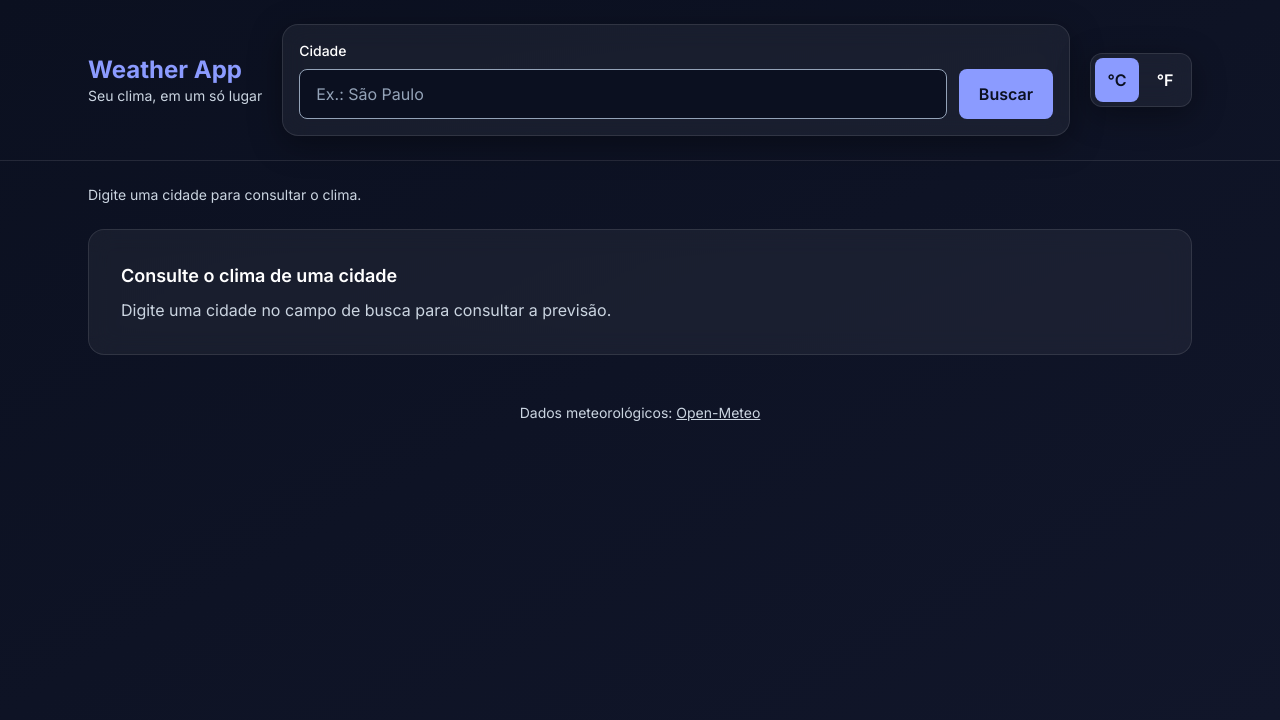
it: App integrado › mostra empty sem forecast e permite nova busca
The width and height of the screenshot is (1280, 720).
Type "Inexistente" into the search field at (623, 94), box [299,69,947,119]
Then press Enter
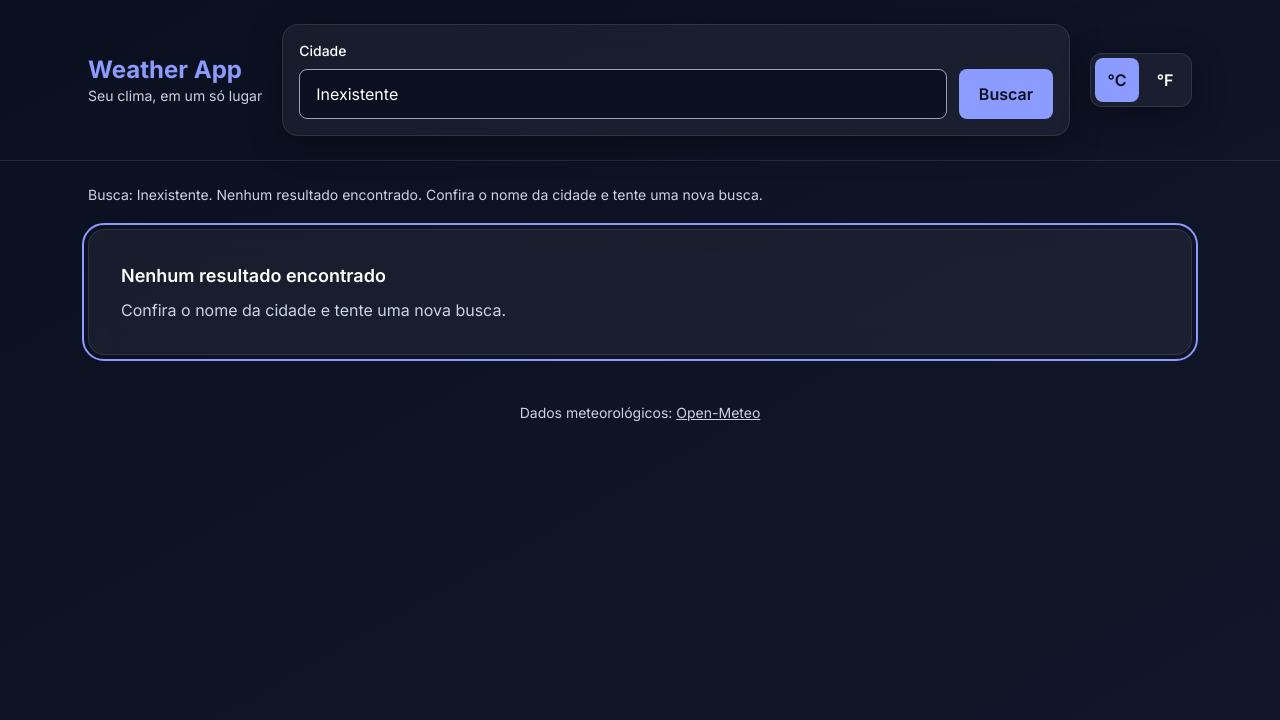
expect the heading "Nenhum resultado encontrado" is shown: met, box [121,265,386,286]
Replace the text in the search field with "São Paulo" at (623, 94), box [299,69,947,119]
Then press Enter
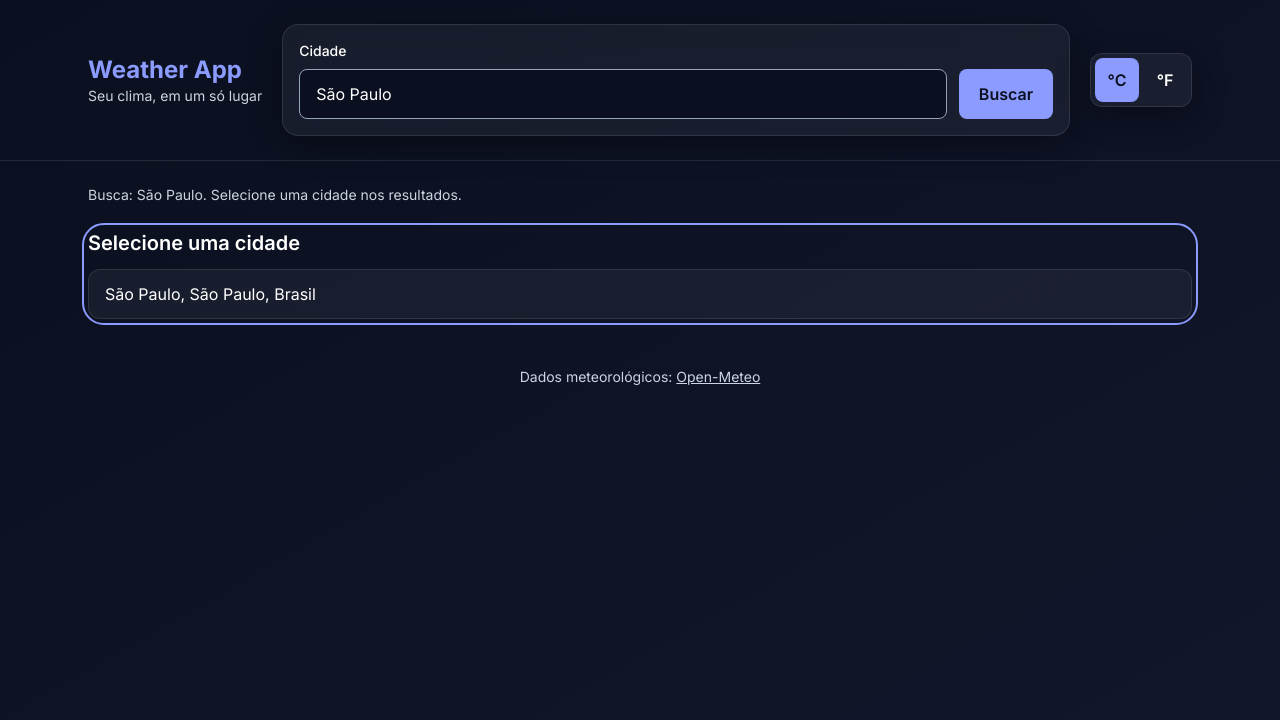
Click the button "São Paulo, São Paulo, Brasil" at (210, 294), box [88,269,1192,319]
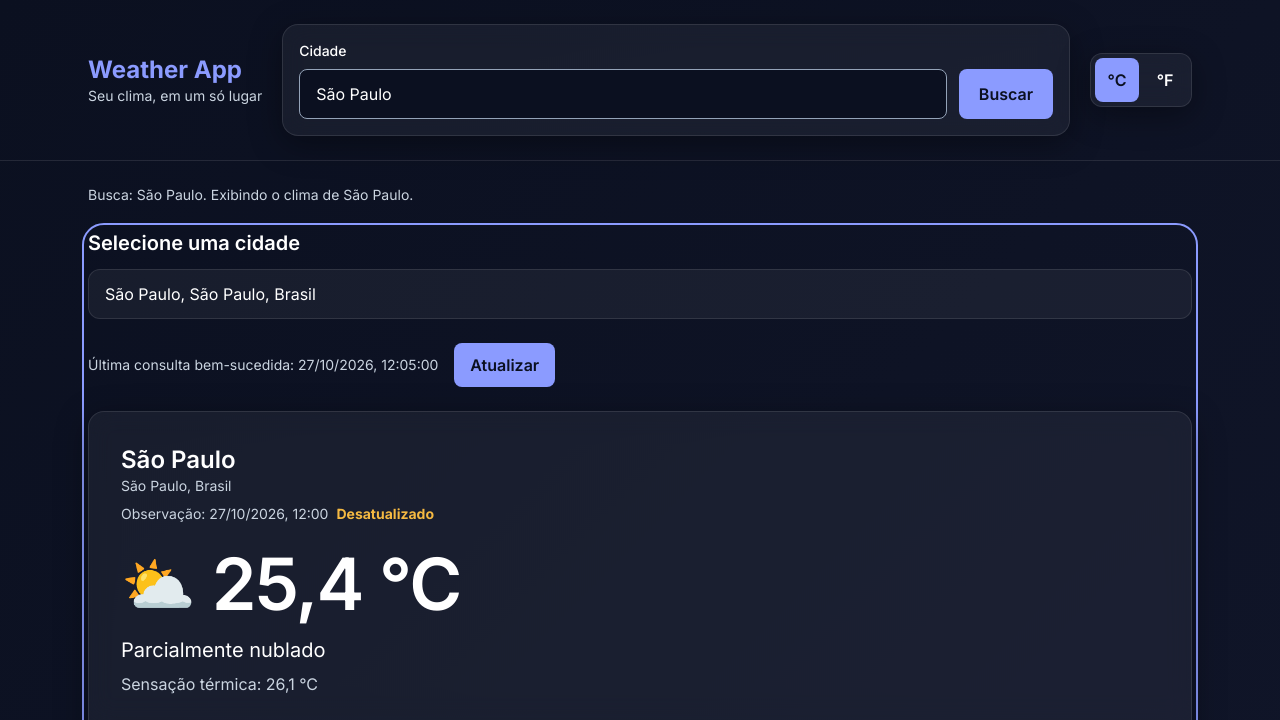
expect the text "25,4 °C" is shown: met, box [212,548,460,620]
